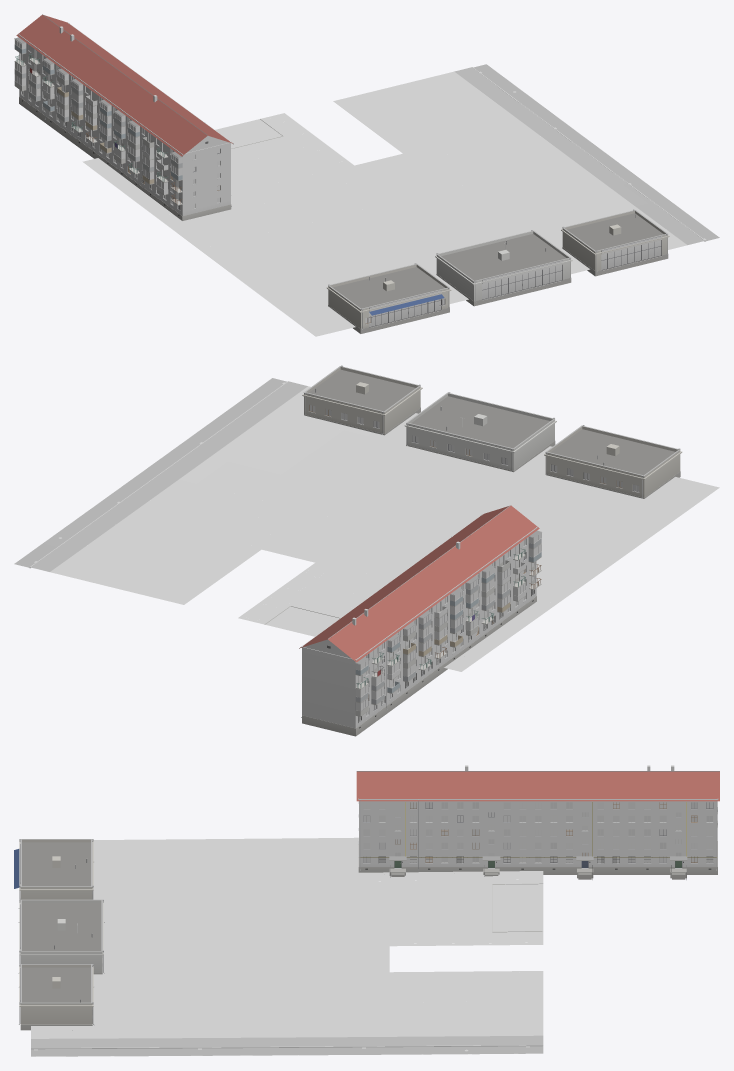
The model's file is chunk_0_2.glb.
3 views of the same model, one above another, from view 1: azimuth 30°, elevation 25°; view 2: azimuth 150°, elevation 25°; view 3: azimuth 270°, elevation 25° (orthographic). The views are drawn at different scales.
Parts seen in each view (by area): view 1: base, detail; view 2: base, detail; view 3: base, detail.
Boxes of the visible parts, box(x1,y1,x2,y2) form: base: box(14, 15, 719, 336); detail: box(14, 14, 667, 329); base: box(14, 366, 719, 736); detail: box(301, 365, 679, 728); base: box(14, 765, 719, 1056); detail: box(18, 771, 719, 1024).
Size of what is drawn, in the model's own units: 100 by 21.33 by 138.
